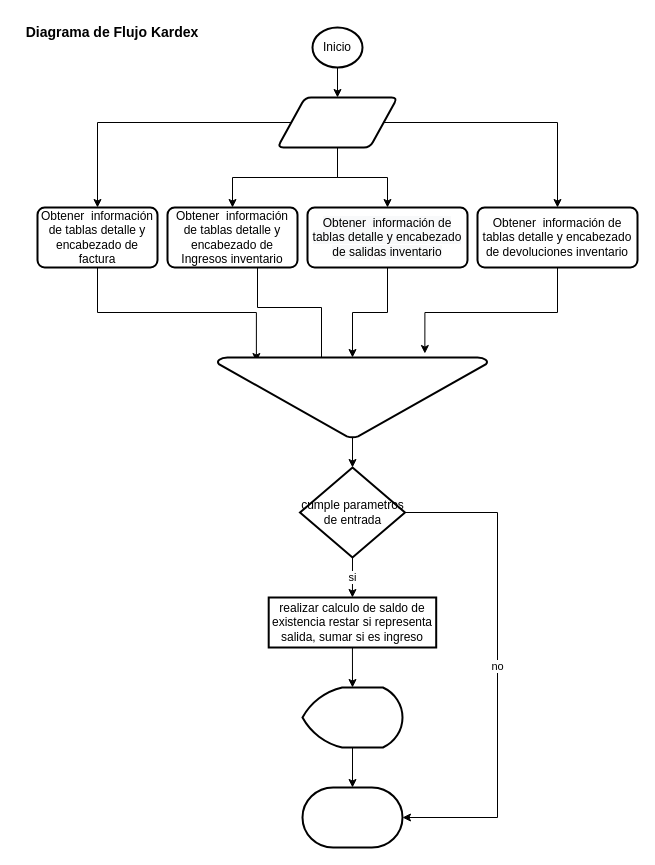
The diagram is 655 pixels wide and 865 high, and some of its shapes have lost their labels. Here are the shapes that lost their labels. From the top down, the centre of each, then its label:
At [337,122]: "idProducto fecha_inicial fecha_final".
At [352,397]: "se almacena temporalmente en Kardex".
At [352,717]: "mostrar en pantalla".
At [352,817]: "Fin".
